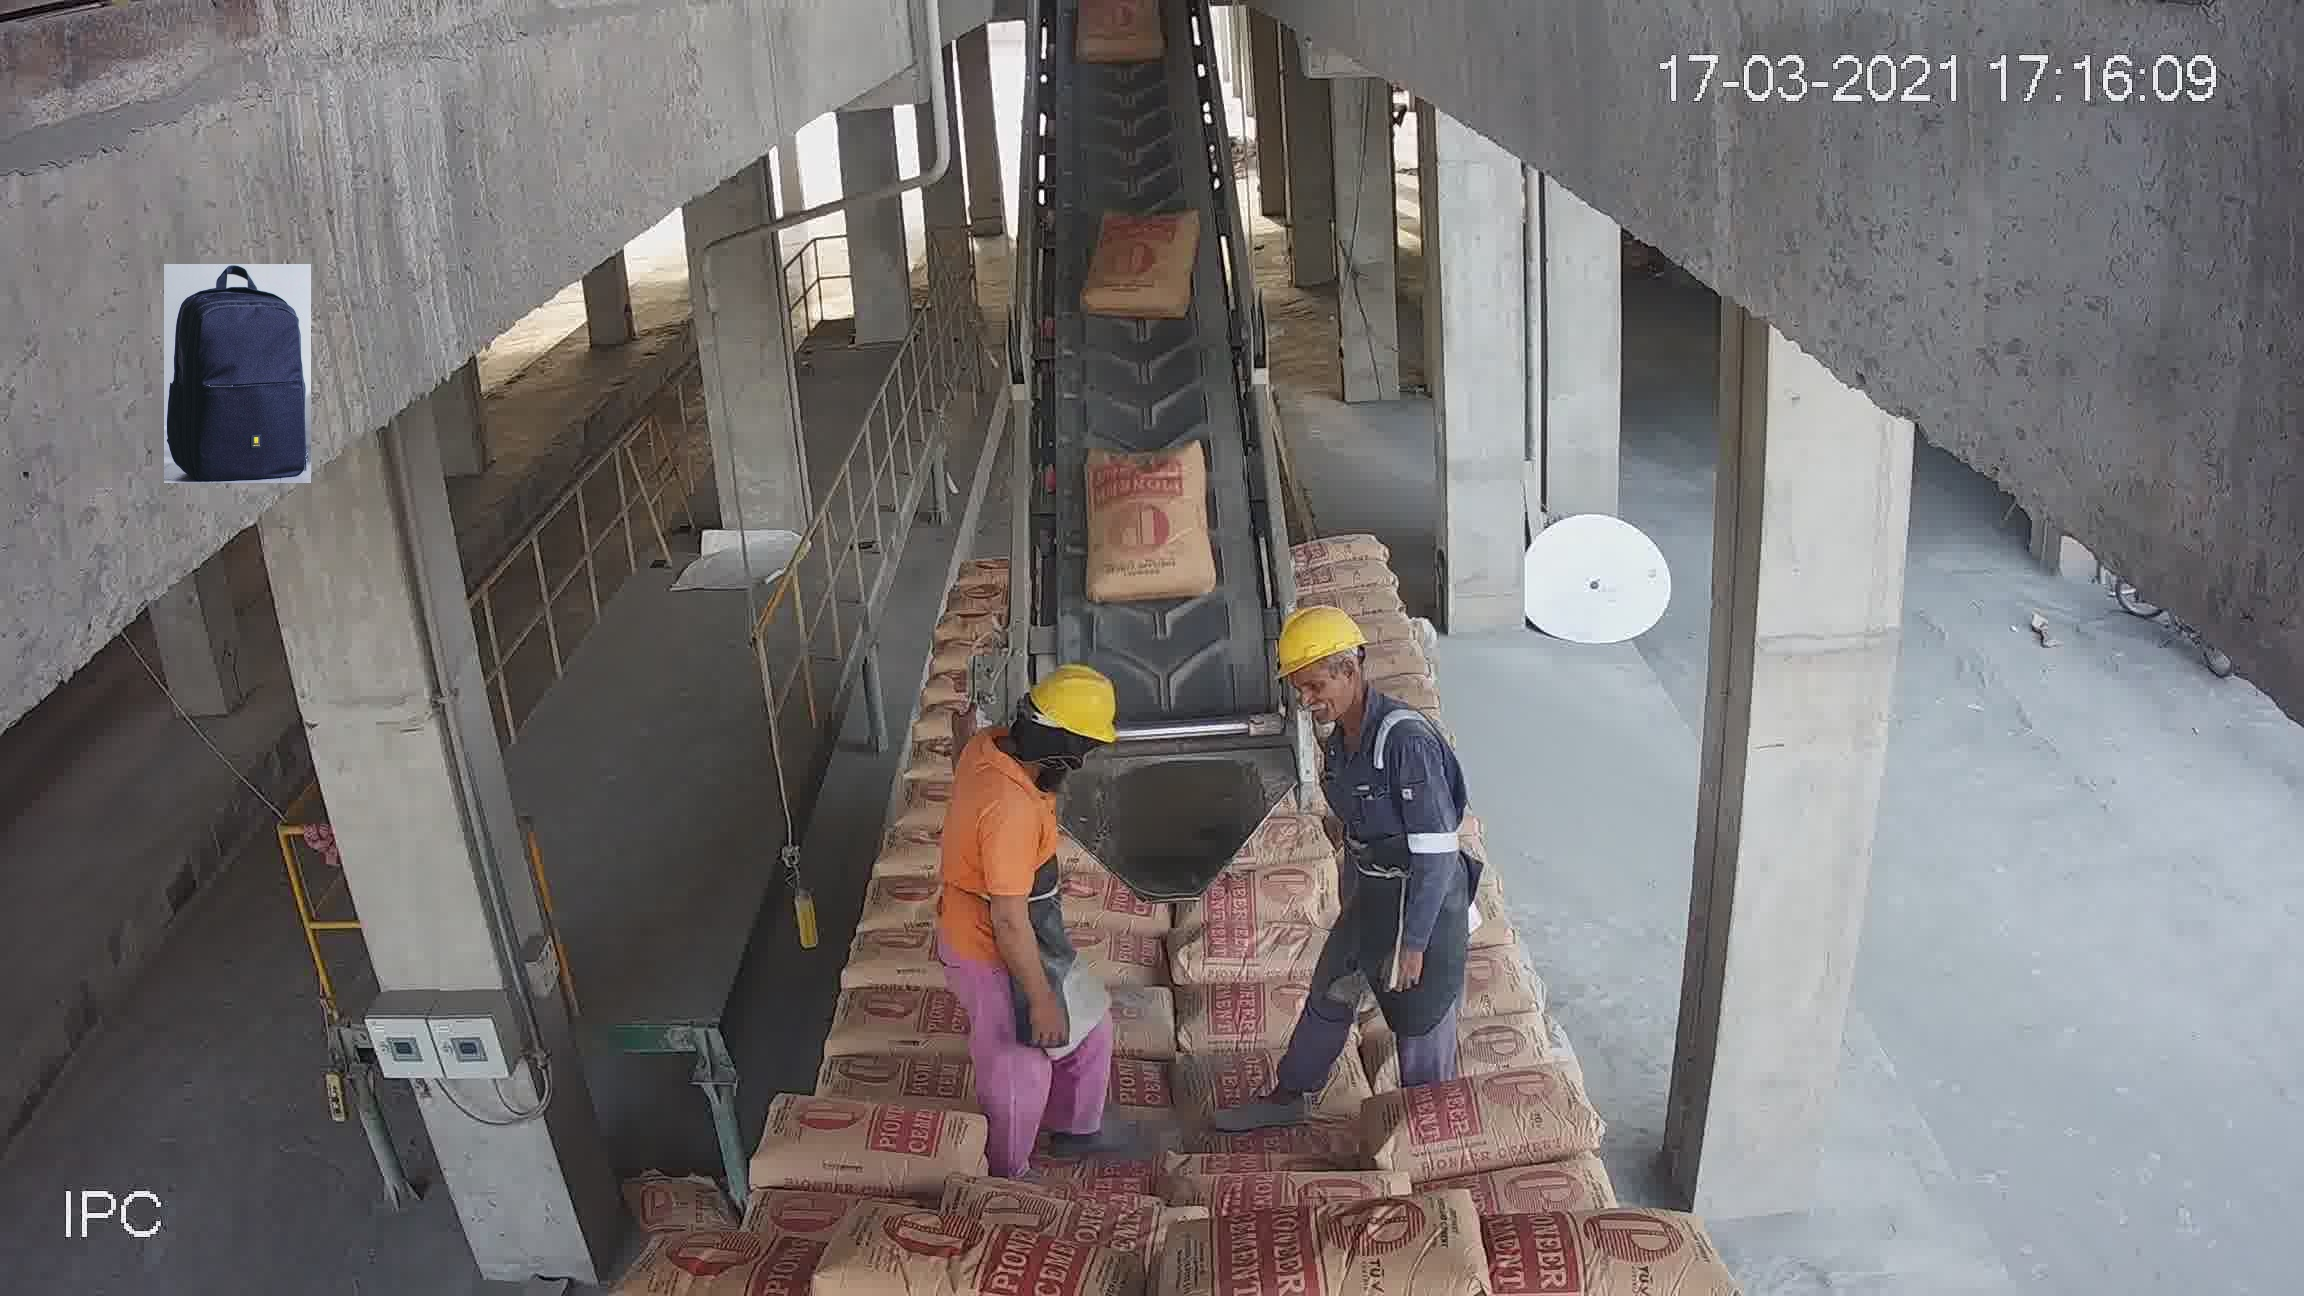bag: (1003, 44, 1290, 878), (1084, 437, 1215, 604), (1086, 212, 1201, 321)
bag_h: (1193, 1182, 1518, 1294), (1353, 1074, 1597, 1180), (753, 1097, 999, 1195), (1446, 1207, 1701, 1296), (812, 1223, 1119, 1296), (1046, 1055, 1211, 1155), (635, 1230, 843, 1296), (1180, 864, 1332, 945), (821, 1038, 983, 1111), (1166, 986, 1313, 1060), (821, 991, 980, 1059), (1177, 924, 1321, 991), (836, 924, 948, 997), (1287, 529, 1394, 568), (1293, 562, 1396, 600)
